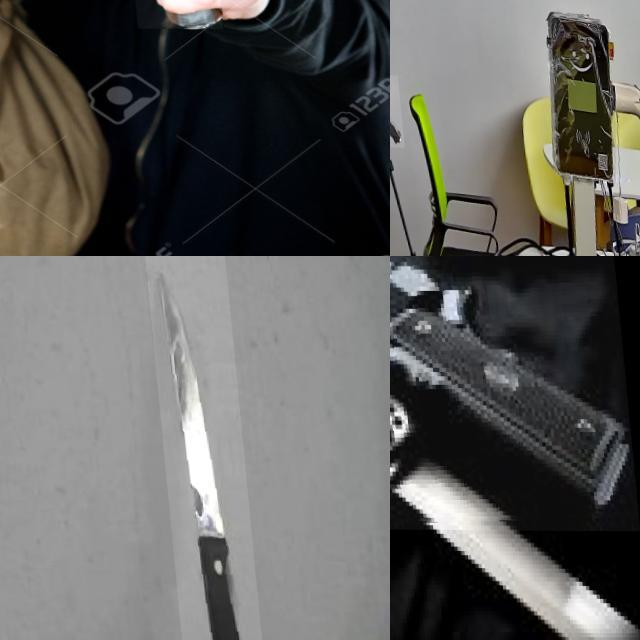-: (141, 256, 260, 640)
gun-knife-thesis - v11 Yolov5 augmented: (390, 256, 640, 530), (117, 0, 215, 88), (390, 74, 420, 147)
